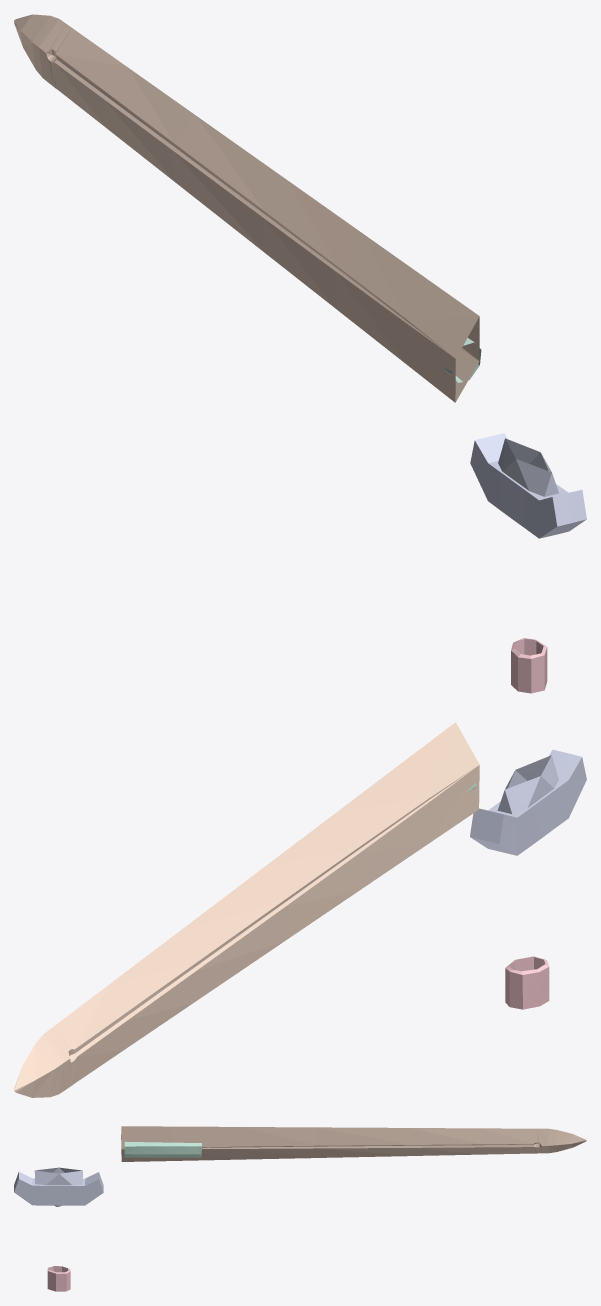
Rendered from view_input_colored.glb.
The picture shows the model from 3 angles, top to bottom: view 1: azimuth 30°, elevation 25°; view 2: azimuth 150°, elevation 25°; view 3: azimuth 270°, elevation 25°; orthographic projection. The views are drawn at different scales.
Visible parts, largest first — view 1: world; view 2: world; view 3: world.
Boxes of the visible parts, box(x1,y1,x2,y2) form: world: box(14, 14, 586, 693); world: box(14, 722, 586, 1097); world: box(14, 1126, 586, 1291).
Size of the model in its own units: 0.0367 by 0.3438 by 1.09.
